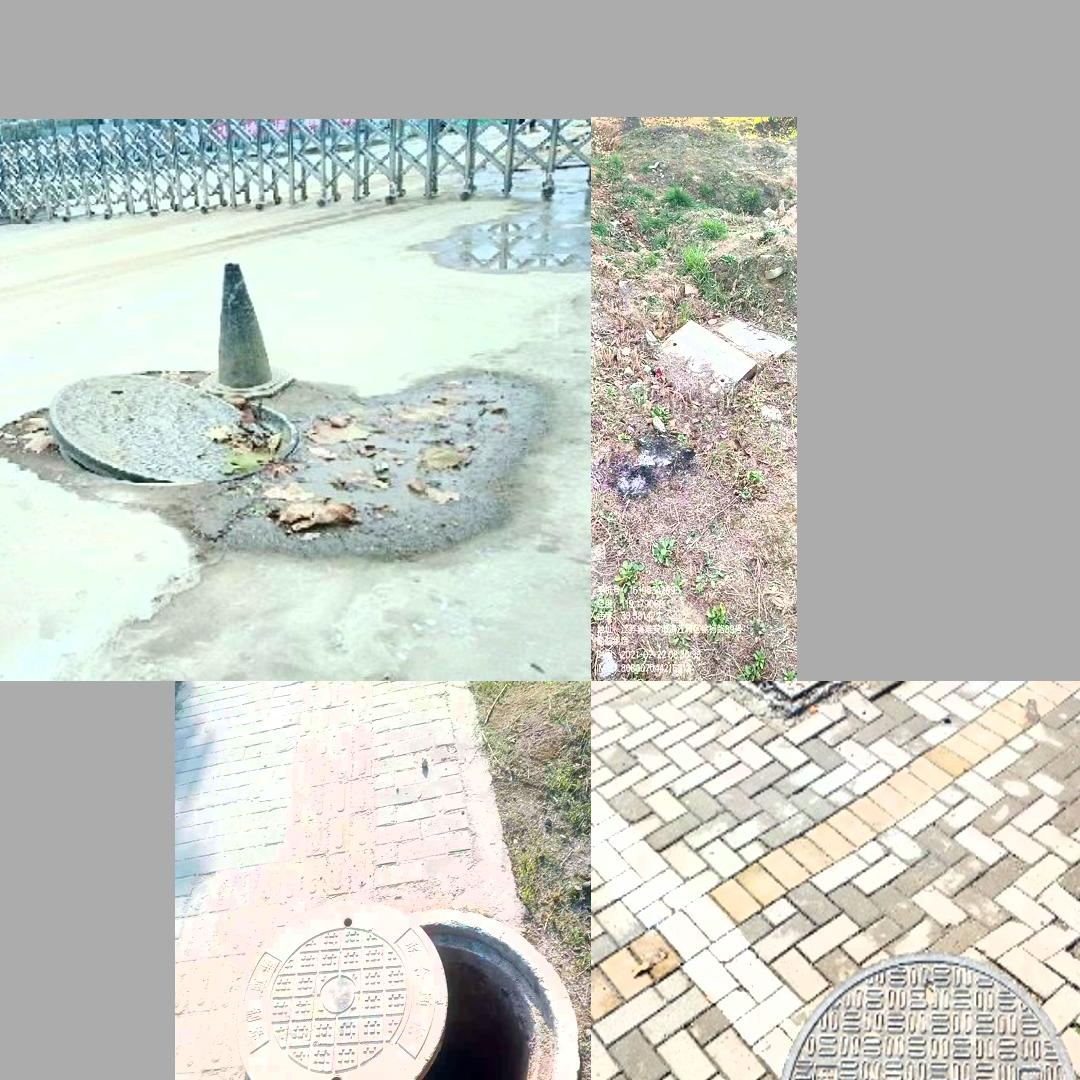uncovered: (237, 898, 578, 1080), (731, 967, 1080, 1080), (46, 373, 299, 481), (635, 310, 773, 409)
